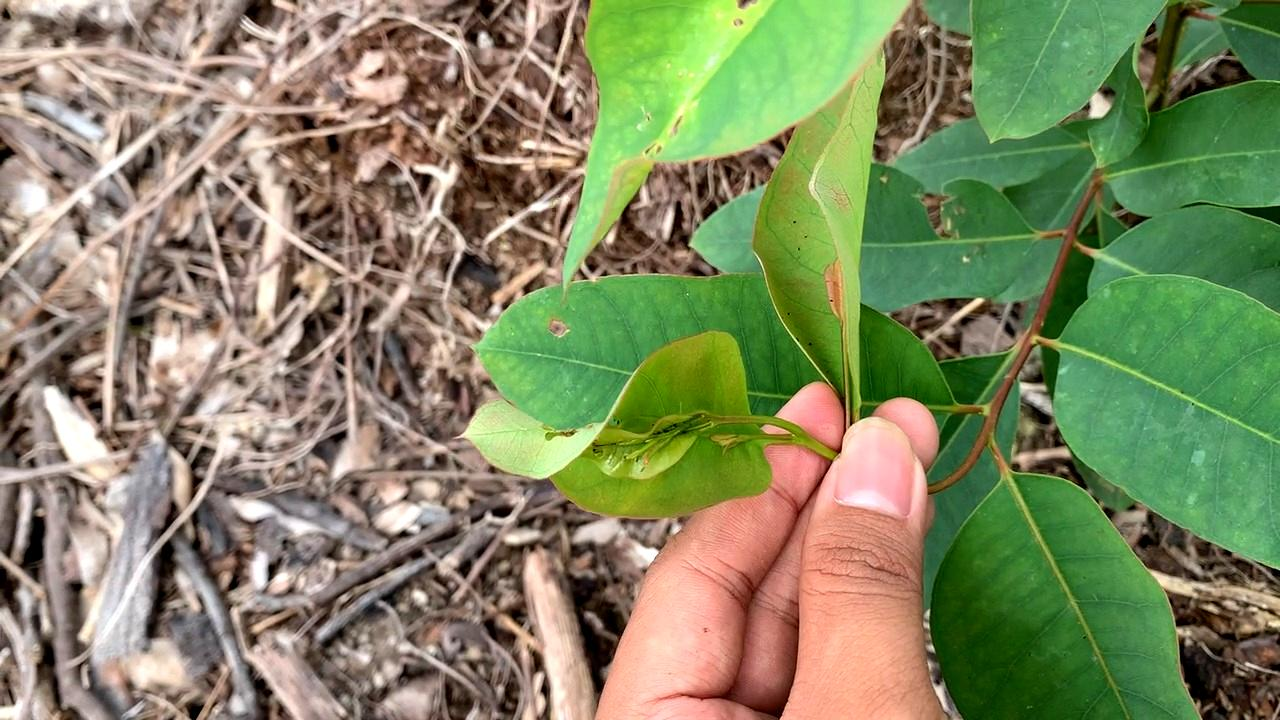Leaf Roller - Leaf: (458, 334, 768, 521)
